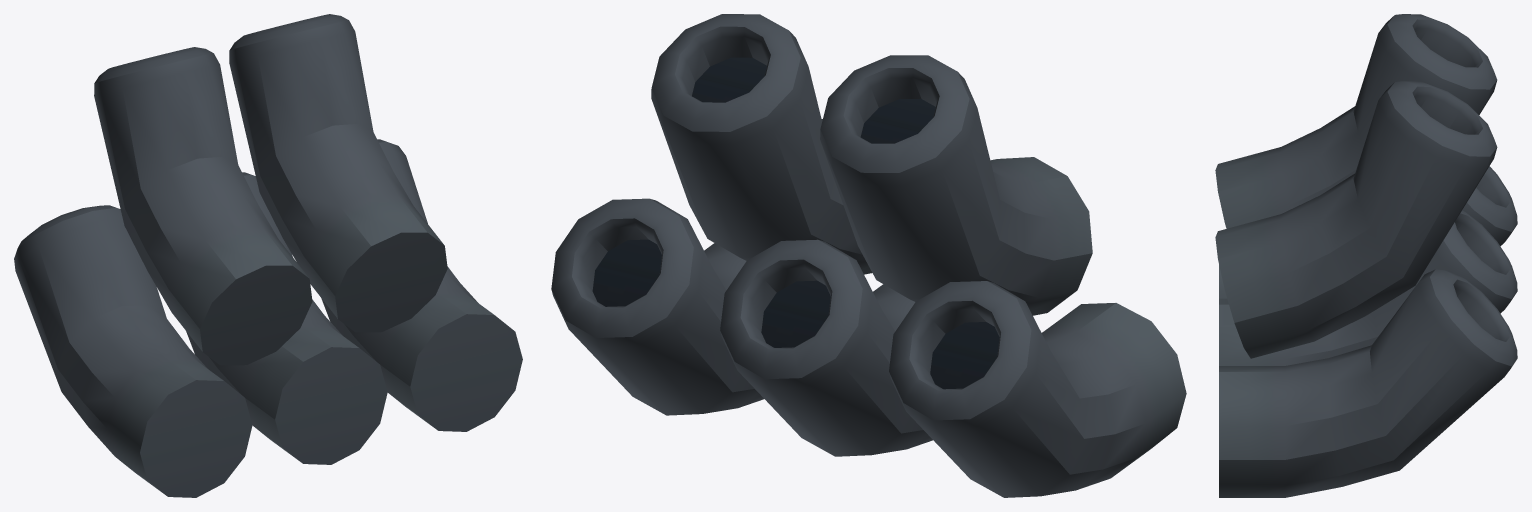
The model's file is Back_Egzoz_Teruck_Modified.fbx.
3 renders of one model, left to right at view 1: azimuth 30°, elevation 25°; view 2: azimuth 150°, elevation 25°; view 3: azimuth 270°, elevation 25°, orthographic. The views are drawn at different scales.
Parts seen in each view (by area): view 1: Back_Egzoz_Truck_Modified; view 2: Back_Egzoz_Truck_Modified; view 3: Back_Egzoz_Truck_Modified.
Part boxes in pixels (x1=…): Back_Egzoz_Truck_Modified: x1=14, y1=14, x2=522, y2=497; Back_Egzoz_Truck_Modified: x1=551, y1=14, x2=1186, y2=497; Back_Egzoz_Truck_Modified: x1=1215, y1=14, x2=1517, y2=497.
Size of the model in its own units: 1.16 by 1.04 by 0.7759.
